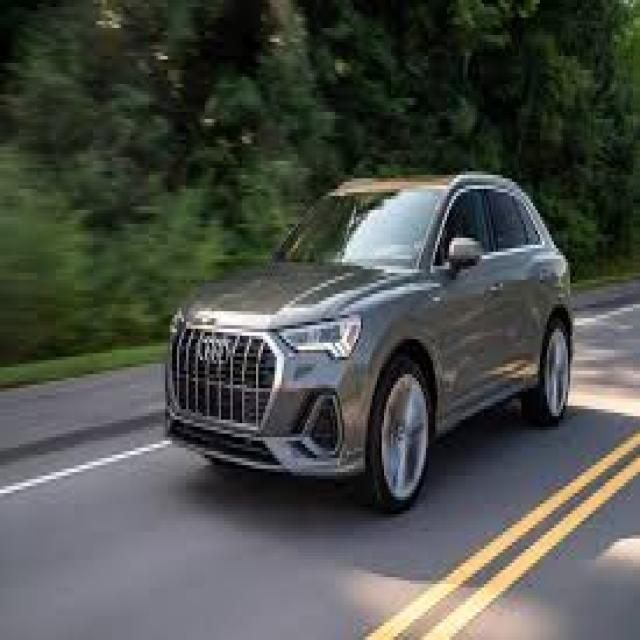SUV: (164, 172, 578, 518)
